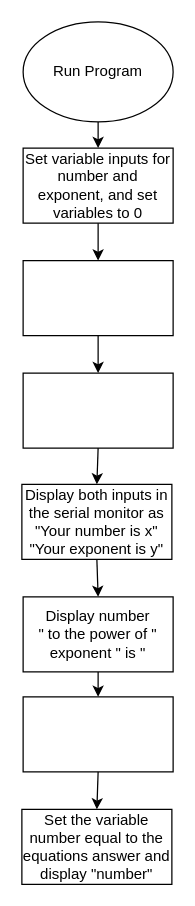
This 195x906 diagram has some shape labels left out. Here are the shapes that lost their labels. From the top down, the box of each, then its label:
(22, 259, 173, 336): Set serial monitor
(22, 372, 173, 448): Set serial inputs and loop continuously until inputs are received
(22, 696, 173, 772): Run the equation of the first input to the power of the second input
